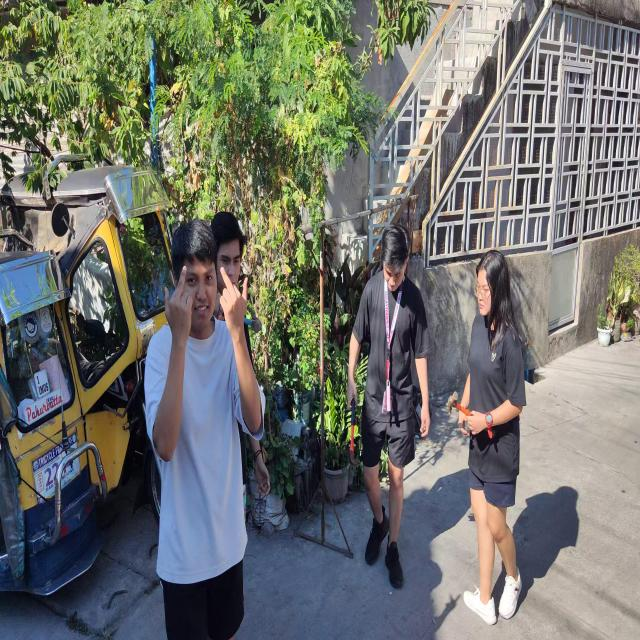hammer: (448, 391, 495, 437), (346, 398, 358, 465), (244, 315, 262, 333)
